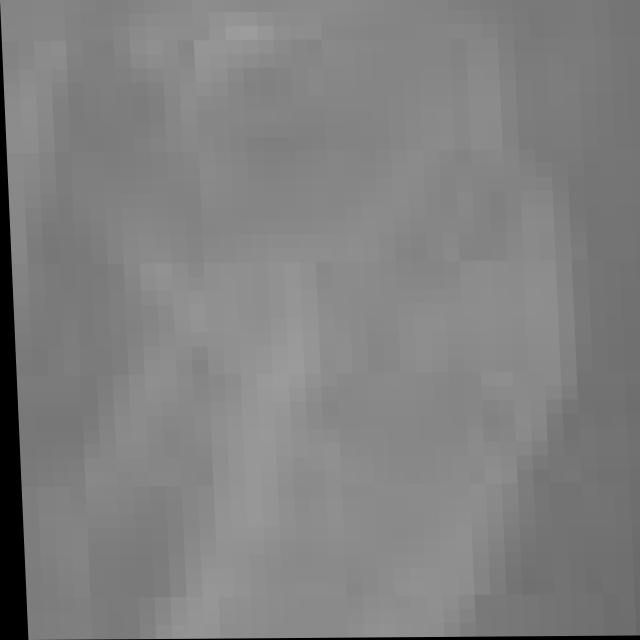fracture: (18, 0, 640, 640)
